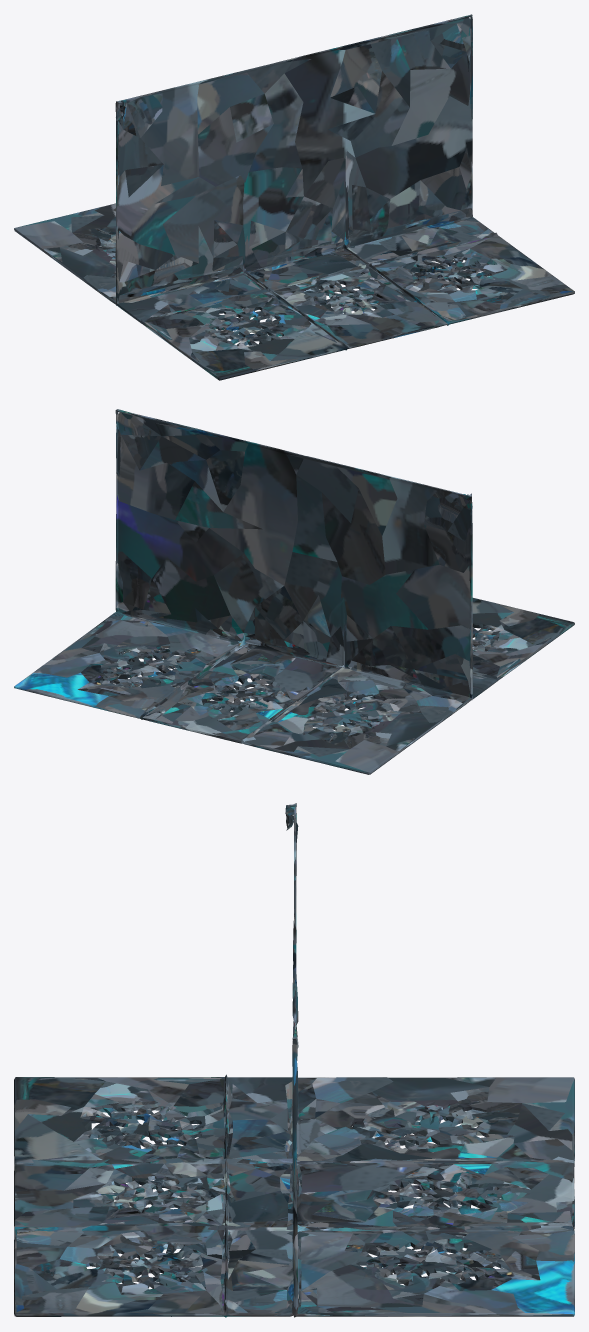
Rendered from Floor_Arcane_002_Wall.fbx.
The picture shows the model from 3 angles, top to bottom: view 1: azimuth 30°, elevation 25°; view 2: azimuth 150°, elevation 25°; view 3: azimuth 270°, elevation 25°; orthographic projection. The views are drawn at different scales.
Visible parts, largest first — view 1: temp; view 2: temp; view 3: temp.
Boxes of the visible parts, bbox=[...] form: temp: bbox=[14, 14, 574, 380]; temp: bbox=[14, 409, 574, 774]; temp: bbox=[14, 803, 574, 1317].
Bounding box in the file's own units: 200 × 200 × 110.
